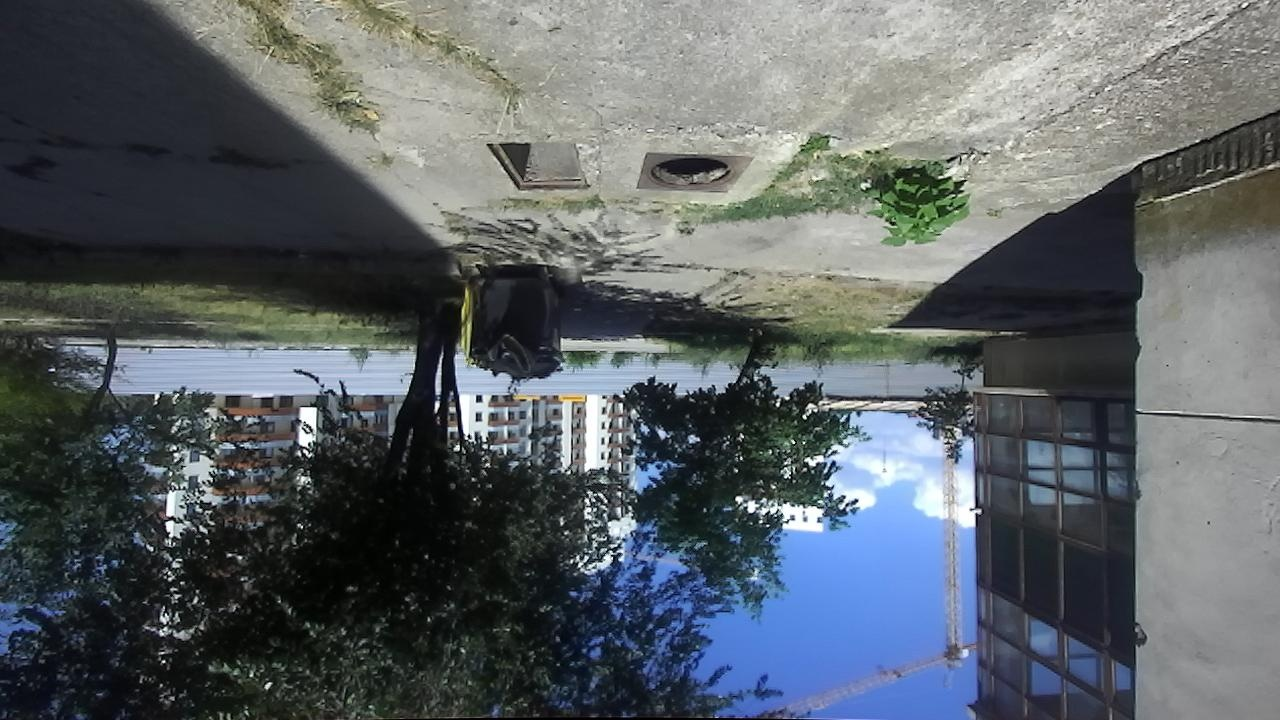drain: (480, 136, 593, 195), (643, 152, 736, 192)
